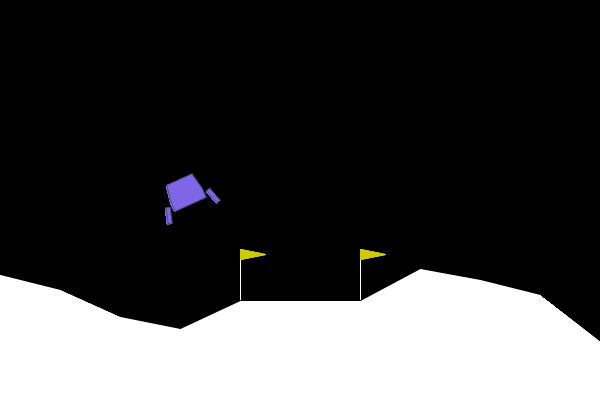lander: (151, 166, 222, 227)
